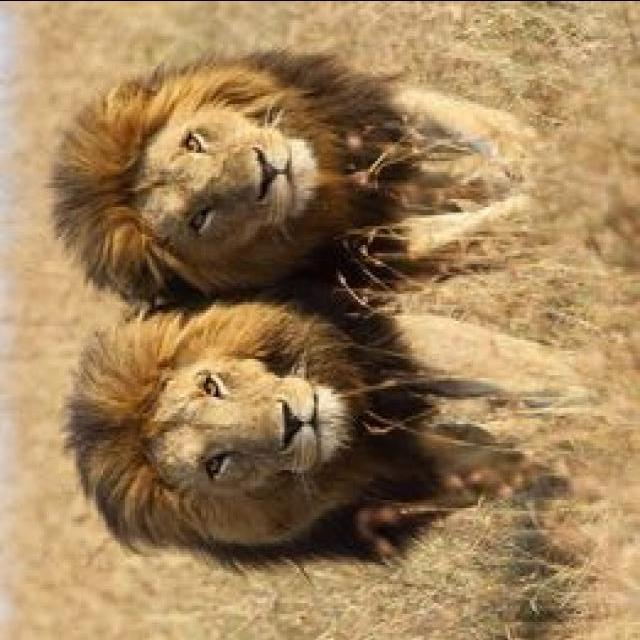lions: (0, 34, 640, 621)
